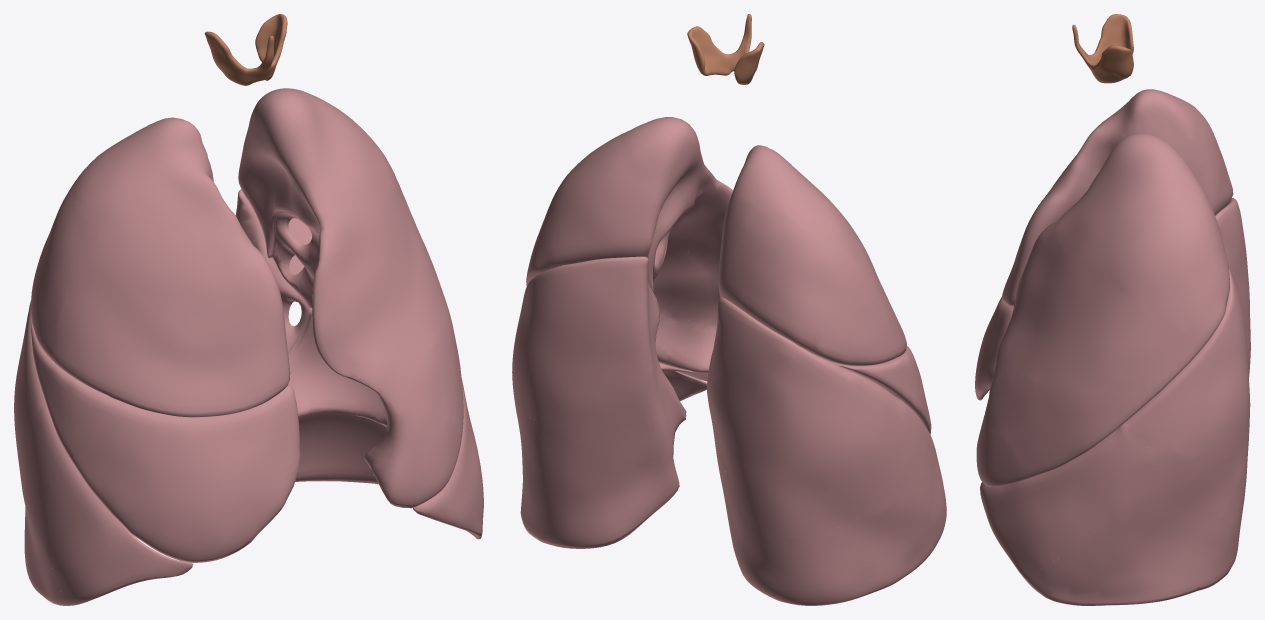
File: z-organs-female.glb
3 views of the same model, side by side, from view 1: azimuth 30°, elevation 25°; view 2: azimuth 150°, elevation 25°; view 3: azimuth 270°, elevation 25° (orthographic). The views are drawn at different scales.
Parts seen in each view (by area): view 1: lung_surface_r_upper, lung_surface_l_upper (×2), lung_surface_r_middle, lung_surface_r_lower, lung_surface_l_lower (×2), thyroid; view 2: lung_surface_r_lower, lung_surface_l_lower, lung_surface_l_upper, lung_surface_r_upper, thyroid, lung_surface_r_middle; view 3: lung_surface_l_upper, lung_surface_l_lower, lung_surface_r_upper, thyroid, lung_surface_r_lower, lung_surface_r_middle.
Part boxes in pixels (x1,y1,x2,y2): lung_surface_r_upper: (31,117,290,417); lung_surface_l_upper (×2): (238,88,463,508); lung_surface_r_middle: (31,323,300,562); lung_surface_r_lower: (14,301,193,605); lung_surface_l_lower (×2): (235,189,483,539); thyroid: (204,14,287,85); lung_surface_r_lower: (707,297,946,605); lung_surface_l_lower: (512,256,706,548); lung_surface_l_upper: (526,117,732,381); lung_surface_r_upper: (718,145,906,365); thyroid: (687,14,764,84); lung_surface_r_middle: (830,345,931,434); lung_surface_l_upper: (976,133,1229,486); lung_surface_l_lower: (980,268,1250,605); lung_surface_r_upper: (1002,89,1233,306); thyroid: (1072,14,1133,83); lung_surface_r_lower: (1215,198,1250,377); lung_surface_r_middle: (975,297,1013,400).
Bounding box in the file's own units: 0.2203 × 0.2755 × 0.1395.
